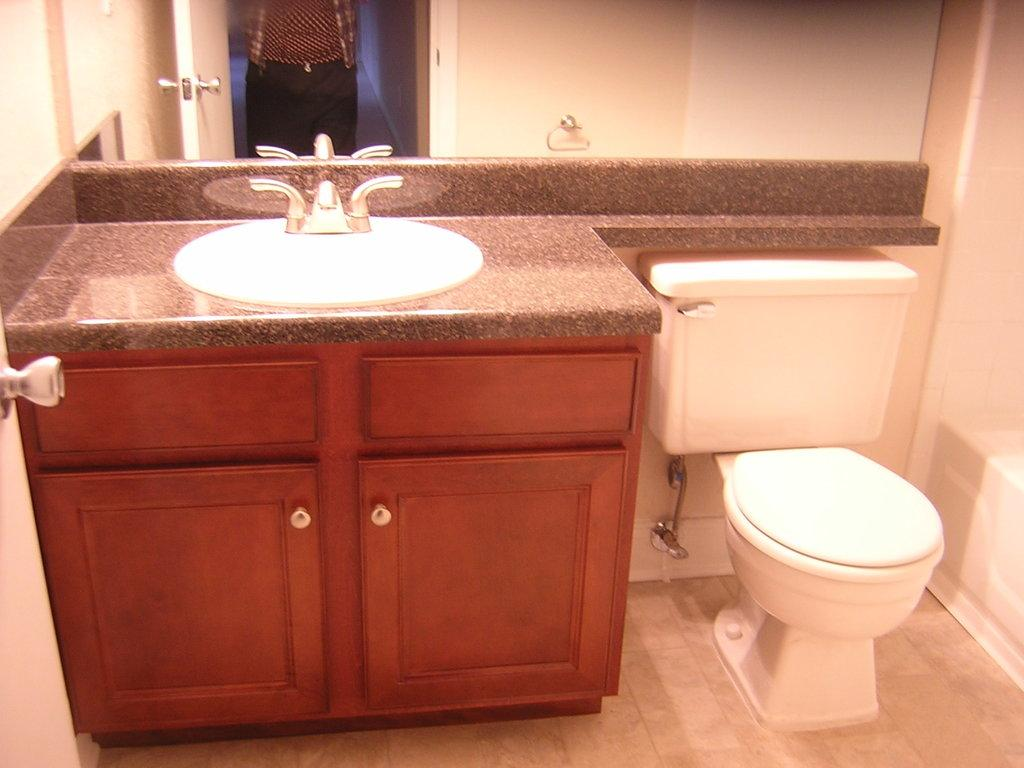cabinet_door: (50, 472, 328, 716), (358, 464, 608, 701)
handle: (0, 347, 82, 414), (356, 495, 398, 531), (282, 496, 316, 535)
